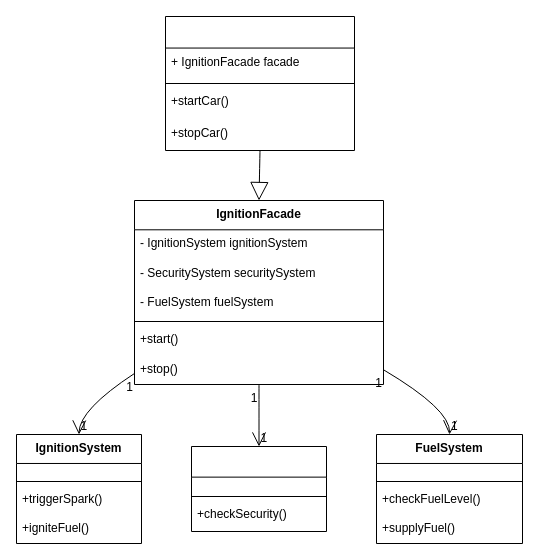
This 539x560 diagram has some shape labels left out. Each missing label, with the box of its shape:
Client: (164, 16, 354, 150)
SecuritySystem: (190, 446, 326, 532)
